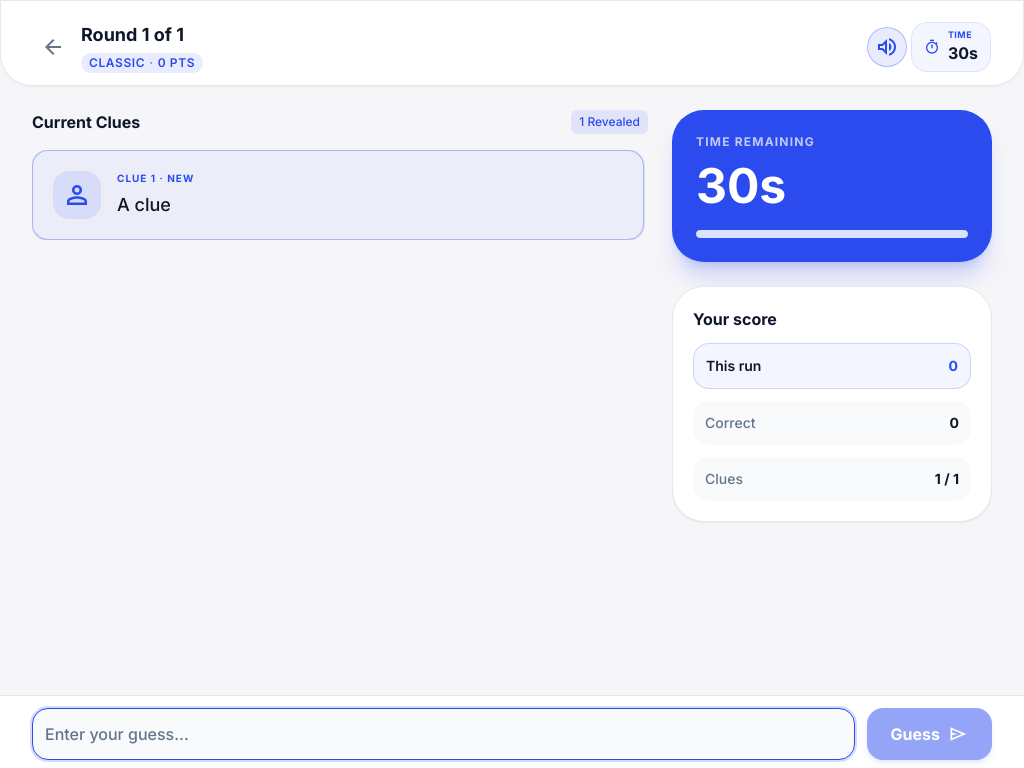
it: SoloGame › keeps guess input focused after an incorrect guess
Type "Aaron" into the field labelled "Enter your guess..." at (443, 734), box [32,708,855,760]
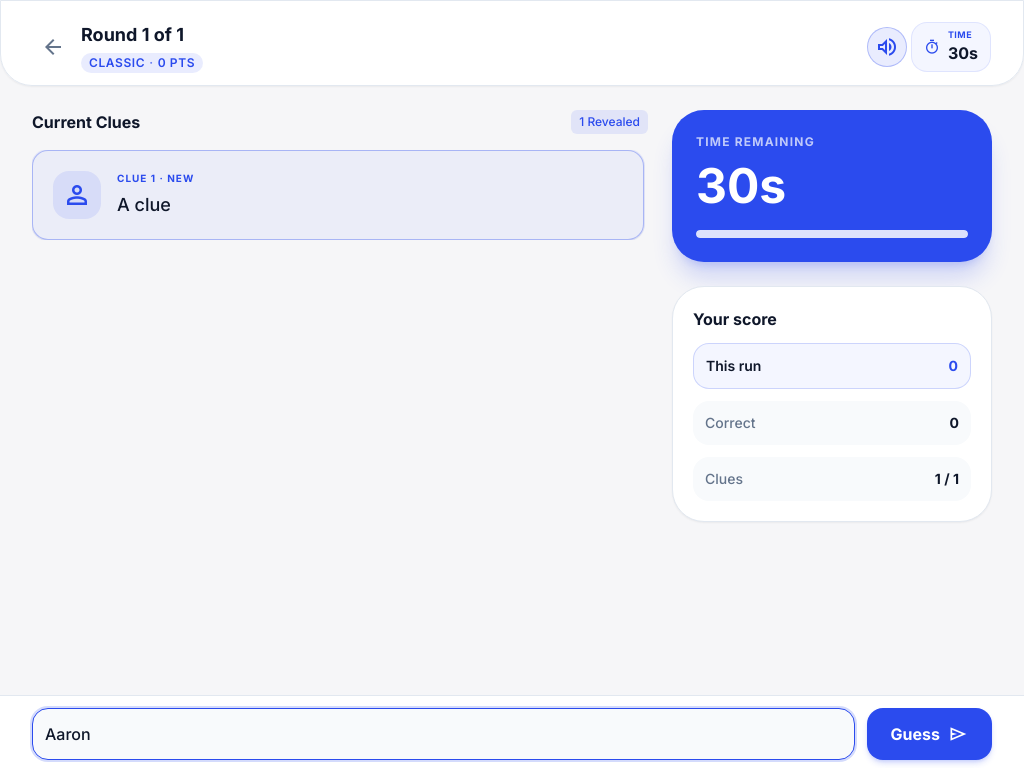
Click the button "Guess" at (929, 734), box [867,708,992,760]
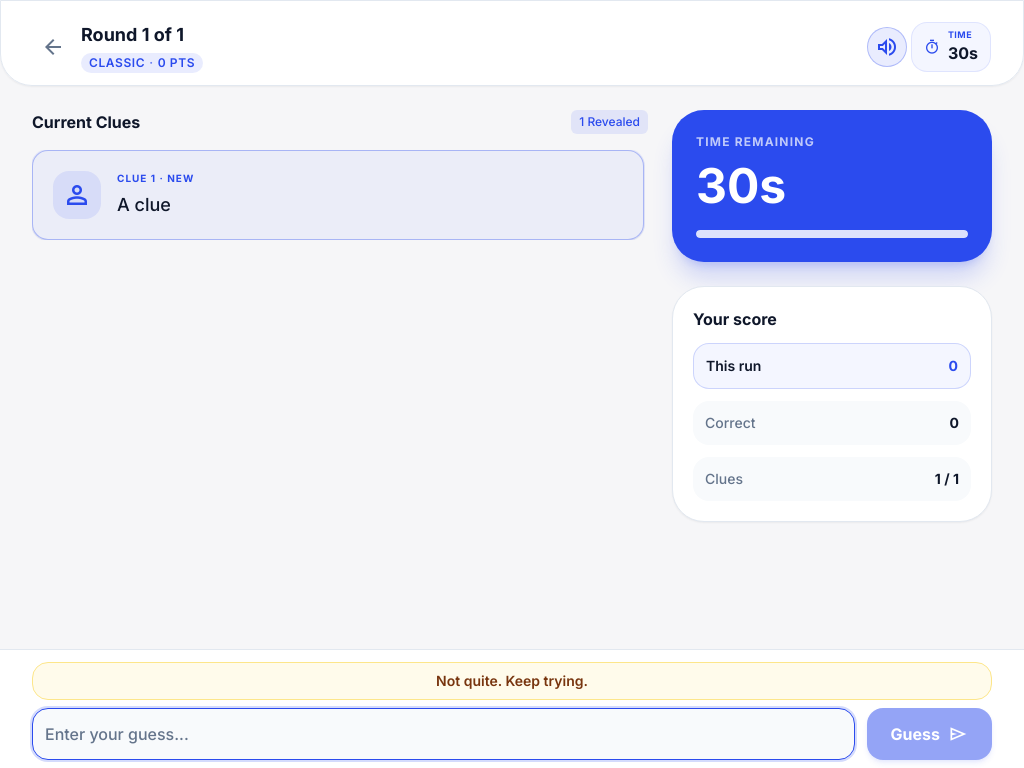
Result: the message shows "Not quite" at [436,672,588,689]
Result: the field labelled "Enter your guess..." is empty
Type "Moses" into the field labelled "Enter your guess..." at (443, 734), box [32,708,855,760]
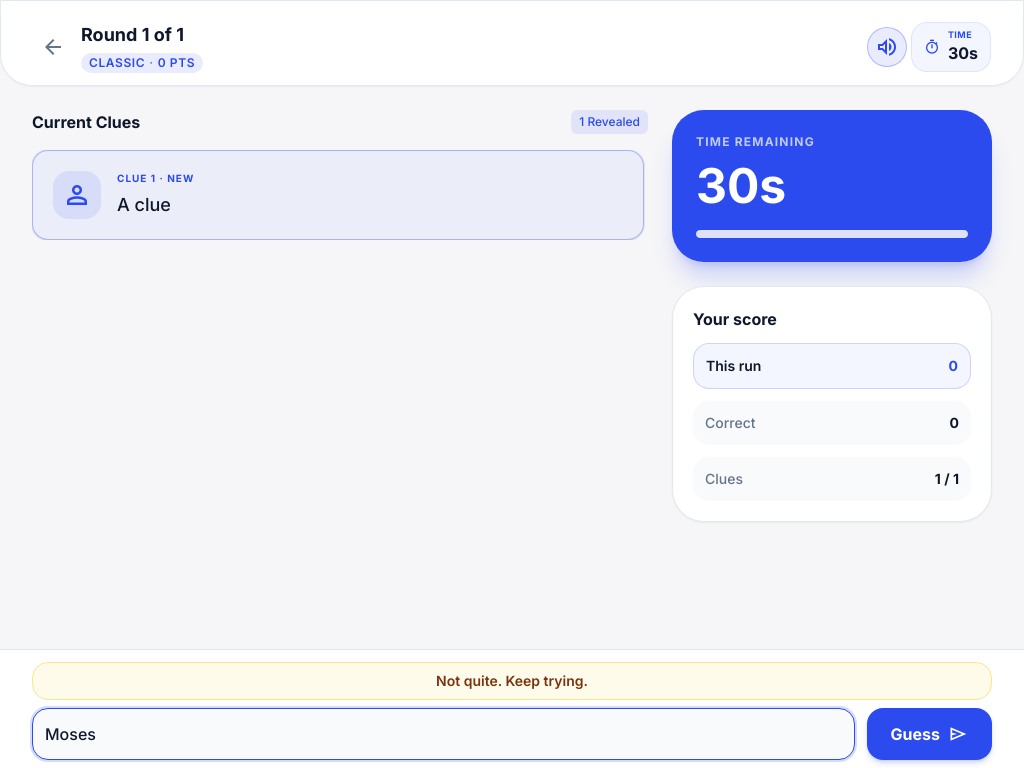
Submit the form named "your guess", box [32,708,992,760]
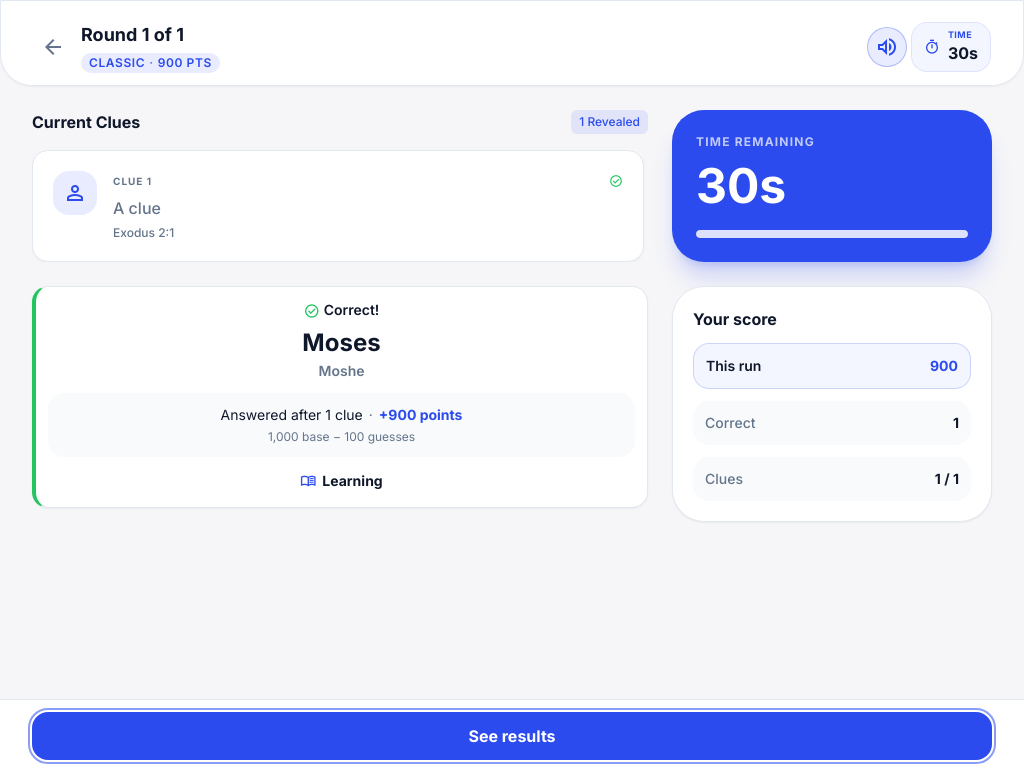
Result: the text "+900 points" is shown at [379,406,462,423]
Result: the text "1,000 base − 100 guesses" is shown at [268,429,415,444]
